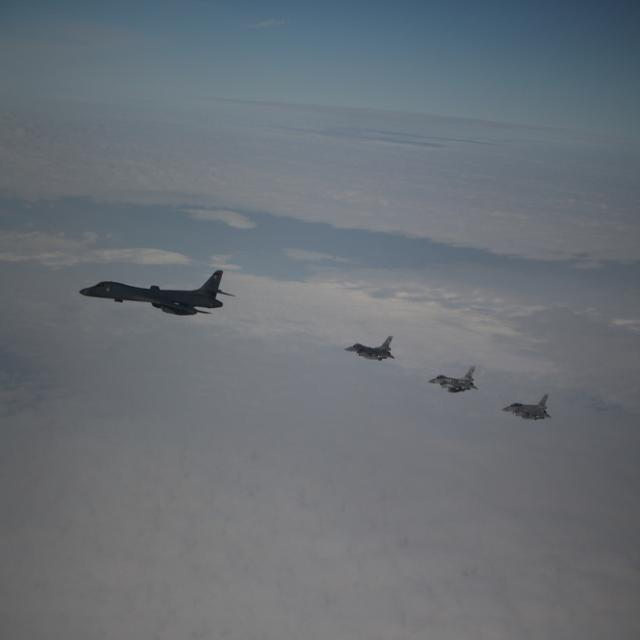MIL_Plane: (46, 269, 141, 316), (500, 392, 552, 422), (426, 366, 479, 394), (342, 335, 396, 362)
